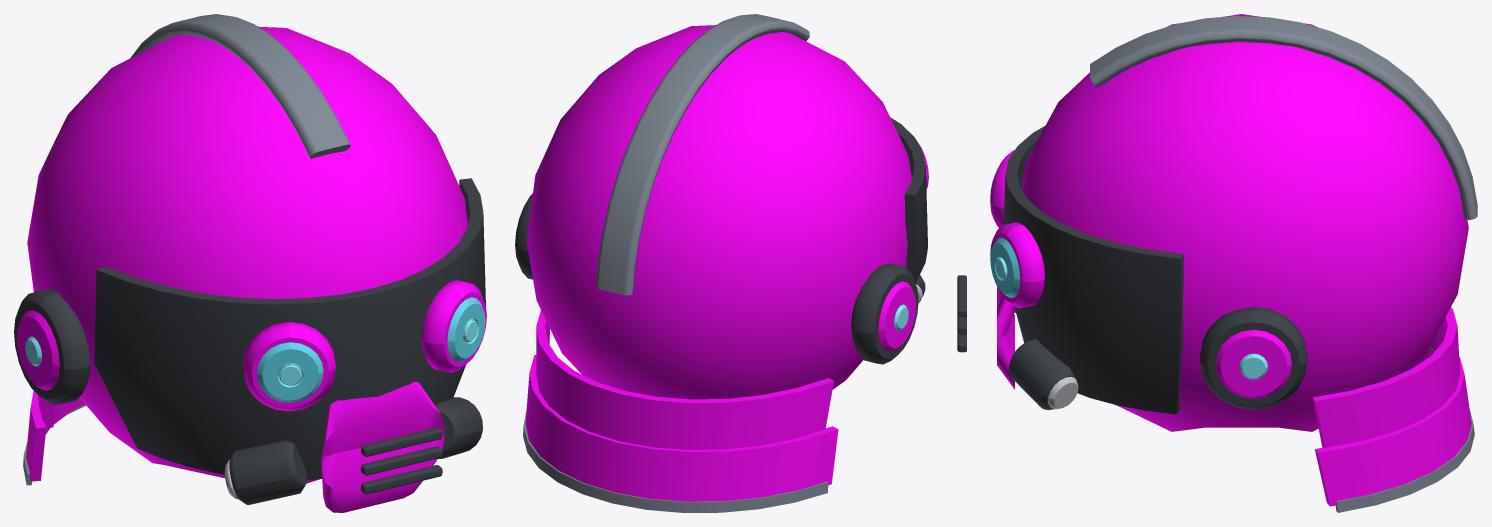
File: porte_armure4_casque.glb
3 views of the same model, side by side, from view 1: azimuth 30°, elevation 25°; view 2: azimuth 150°, elevation 25°; view 3: azimuth 270°, elevation 25° (orthographic). The views are drawn at different scales.
Parts seen in each view (by area): view 1: tete__casque_teinte.010, tete__casque_teinte_sombre.010, tete__casque_acier_lisere.002, tete__casque_visiere.004, tete__casque_lueur.002; view 2: tete__casque_teinte.010, tete__casque_acier_lisere.002, tete__casque_teinte_sombre.010; view 3: tete__casque_teinte.010, tete__casque_teinte_sombre.010, tete__casque_acier_lisere.002, tete__casque_visiere.004, tete__casque_lueur.002, tete__casque_rivet.006.
Part boxes in pixels (left/top/right/bottom): tete__casque_teinte.010: left=16, top=26, right=486, bottom=512; tete__casque_teinte_sombre.010: left=14, top=178, right=485, bottom=504; tete__casque_acier_lisere.002: left=23, top=14, right=350, bottom=485; tete__casque_visiere.004: left=257, top=297, right=485, bottom=402; tete__casque_lueur.002: left=25, top=318, right=479, bottom=387; tete__casque_teinte.010: left=525, top=25, right=928, bottom=501; tete__casque_acier_lisere.002: left=523, top=14, right=828, bottom=512; tete__casque_teinte_sombre.010: left=515, top=117, right=927, bottom=364; tete__casque_teinte.010: left=990, top=14, right=1471, bottom=506; tete__casque_teinte_sombre.010: left=957, top=126, right=1307, bottom=414; tete__casque_acier_lisere.002: left=1090, top=16, right=1477, bottom=512; tete__casque_visiere.004: left=990, top=173, right=1020, bottom=298; tete__casque_lueur.002: left=994, top=257, right=1267, bottom=379; tete__casque_rivet.006: left=1048, top=376, right=1078, bottom=409.
Size of the model in its own units: 0.382 by 0.381 by 0.4352.
